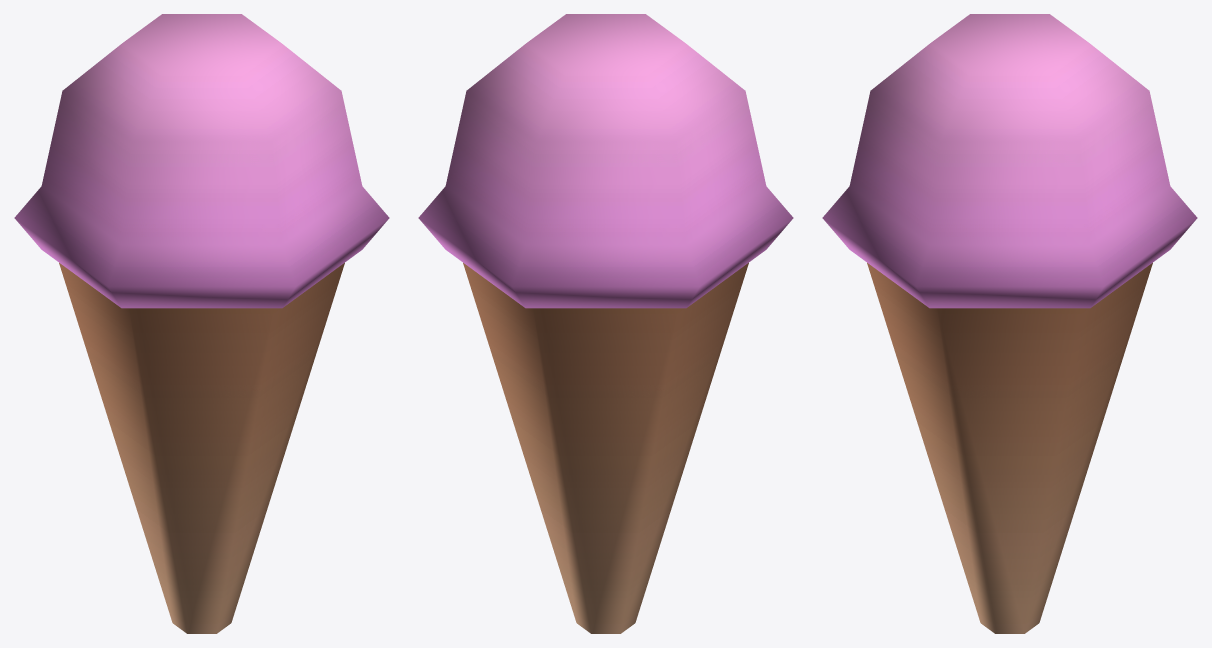
The model's file is ice-cream.glb.
The picture shows the model from 3 angles, left to right: view 1: azimuth 30°, elevation 25°; view 2: azimuth 150°, elevation 25°; view 3: azimuth 270°, elevation 25°; orthographic projection.
Parts seen in each view (by area): view 1: Group, ice-cream; view 2: Group, ice-cream; view 3: Group, ice-cream.
Boxes of the visible parts, x1,y1,x2,y2 form: Group: [14, 14, 389, 308]; ice-cream: [59, 263, 344, 633]; Group: [418, 14, 793, 308]; ice-cream: [463, 263, 748, 633]; Group: [822, 14, 1197, 308]; ice-cream: [867, 263, 1152, 633].
Size of the model in its own units: 0.2352 by 0.4632 by 0.2716.
Materials: 1 (1 with a texture image).
